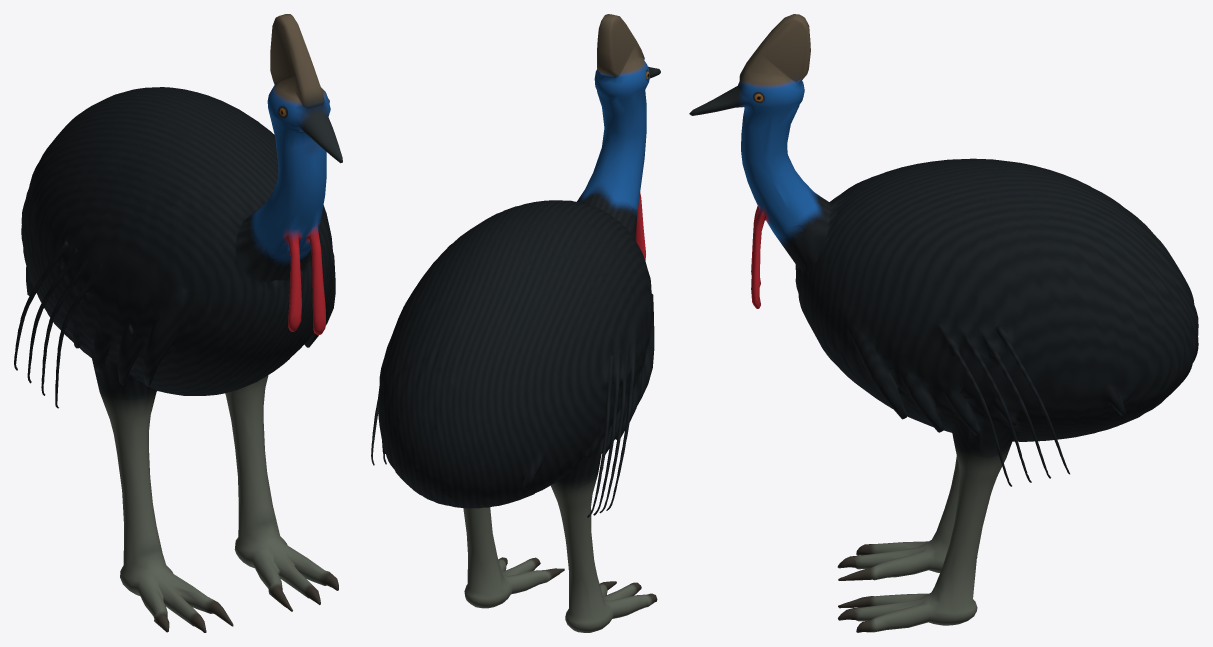
The model's file is NEW449_Southern_Cassowary_LOD2.glb.
3 renders of one model, left to right at view 1: azimuth 30°, elevation 25°; view 2: azimuth 150°, elevation 25°; view 3: azimuth 270°, elevation 25°, orthographic. The views are drawn at different scales.
Parts seen in each view (by area): view 1: NEW449_Southern_Cassowary_LOD2; view 2: NEW449_Southern_Cassowary_LOD2; view 3: NEW449_Southern_Cassowary_LOD2.
Boxes of the visible parts, x1,y1,x2,y2 form: NEW449_Southern_Cassowary_LOD2: (14, 14, 342, 632); NEW449_Southern_Cassowary_LOD2: (371, 14, 660, 632); NEW449_Southern_Cassowary_LOD2: (689, 14, 1198, 632).
Size of the model in its own units: 0.717 by 1.65 by 1.31.
Materials: 1 (1 with a texture image).
